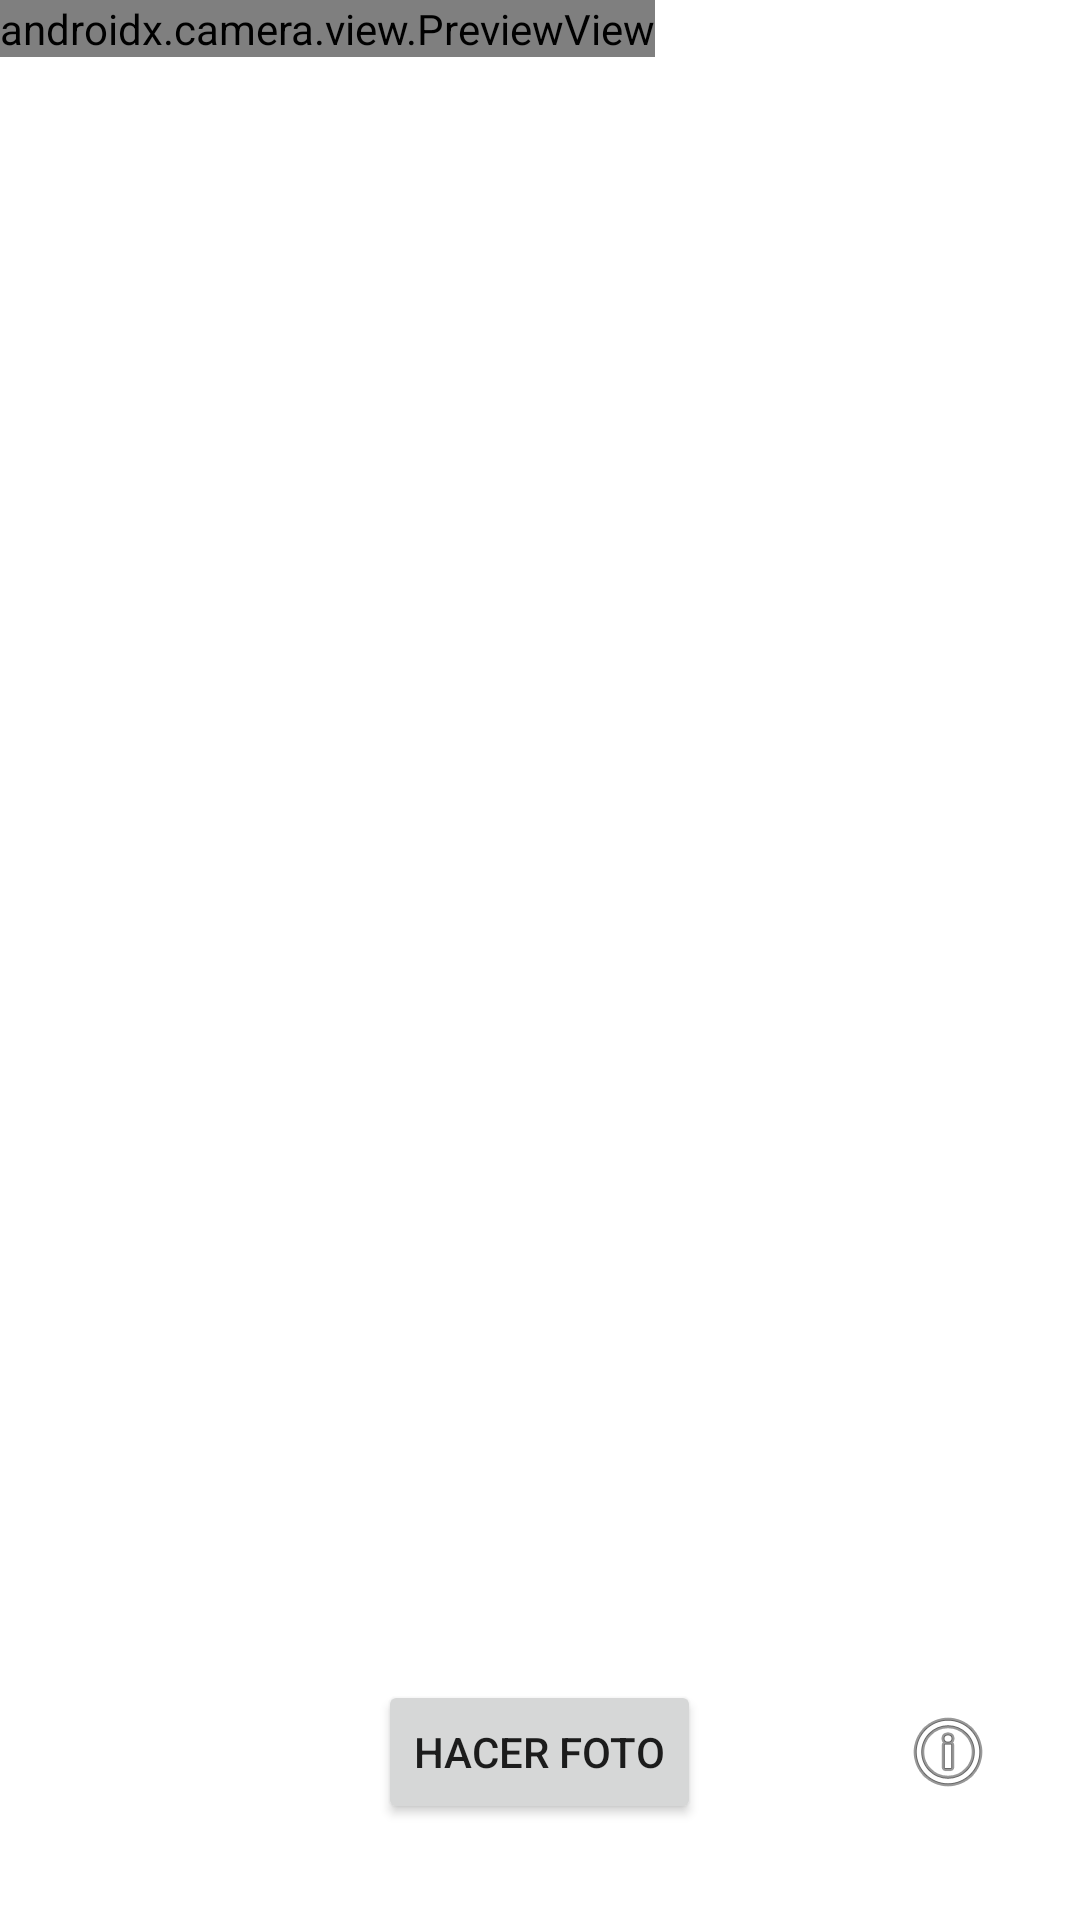

Point at icon controls on the screen. Image size 1080x1920, points as [x,y].
Información: [948,1752]
